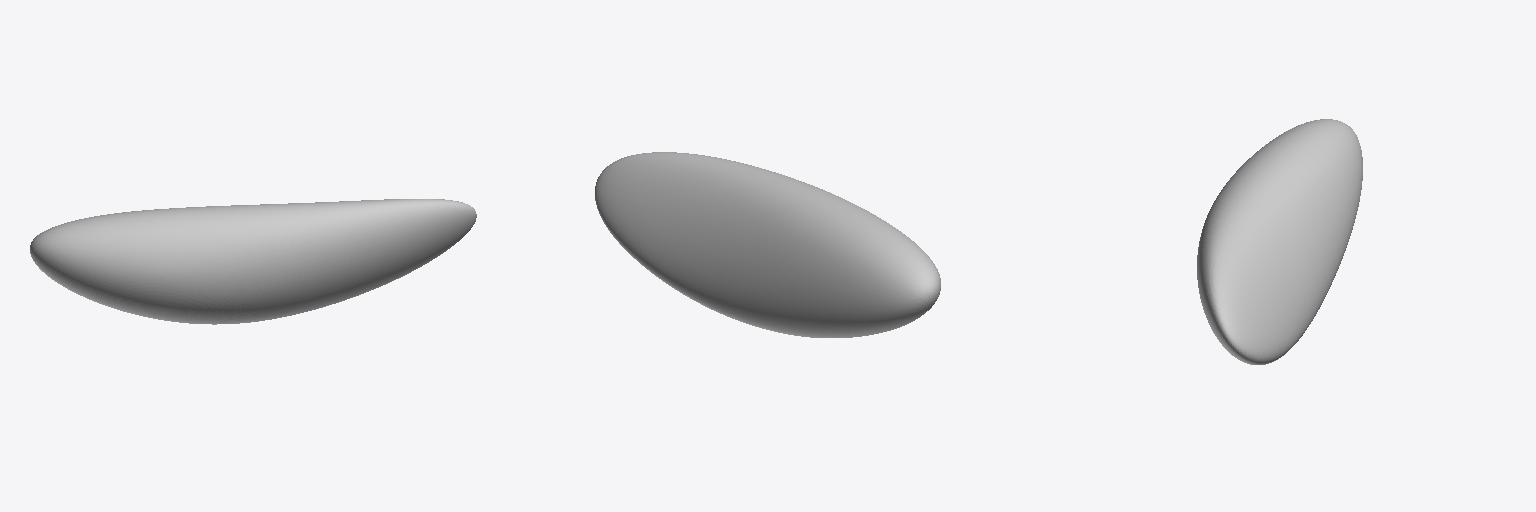
File: bean.obj
The picture shows the model from 3 angles: view 1: azimuth 30°, elevation 25°; view 2: azimuth 150°, elevation 25°; view 3: azimuth 270°, elevation 25°; orthographic projection.
Parts seen in each view (by area): view 1: Cube; view 2: Cube; view 3: Cube.
Part boxes in pixels (bbox=[...]): Cube: bbox=[30, 199, 476, 324]; Cube: bbox=[595, 152, 940, 337]; Cube: bbox=[1197, 119, 1362, 364].
Size of the model in its own units: 307 by 94.65 by 113.